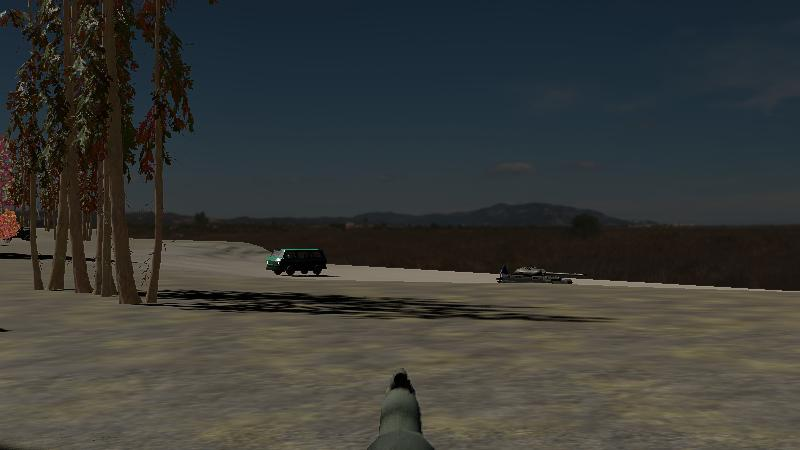Tank: (494, 263, 587, 289)
car: (265, 247, 328, 276), (16, 225, 38, 241)
